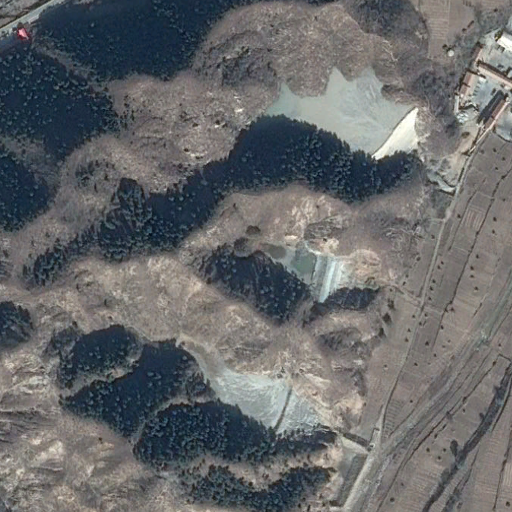tp: (257, 64, 428, 168), (180, 338, 324, 434), (255, 236, 380, 302)
